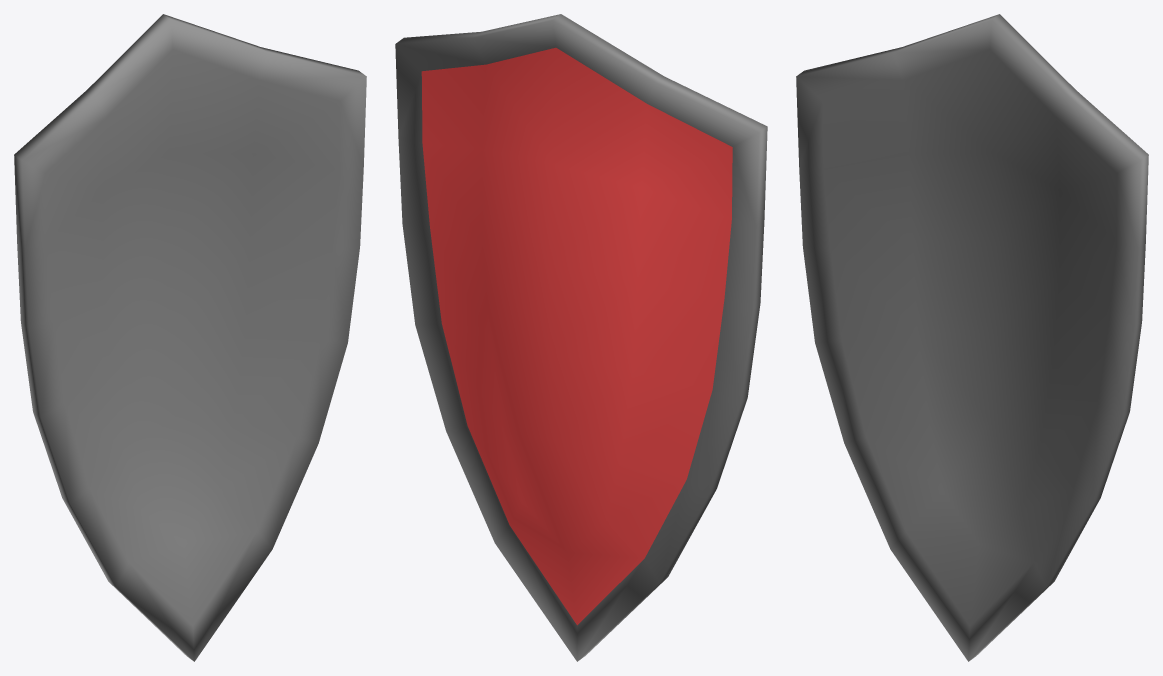
File: Shield_MDL.fbx
The picture shows the model from 3 angles, left to right: view 1: azimuth 30°, elevation 25°; view 2: azimuth 150°, elevation 25°; view 3: azimuth 330°, elevation 25°; orthographic projection. The views are drawn at different scales.
Visible parts, largest first — view 1: Shield_MDL; view 2: Shield_MDL; view 3: Shield_MDL.
Boxes of the visible parts, x1,y1,x2,y2 form: Shield_MDL: (14, 14, 366, 661); Shield_MDL: (395, 14, 767, 661); Shield_MDL: (796, 14, 1148, 661).
Bounding box in the file's own units: 0.4049 × 0.7017 × 0.071.
